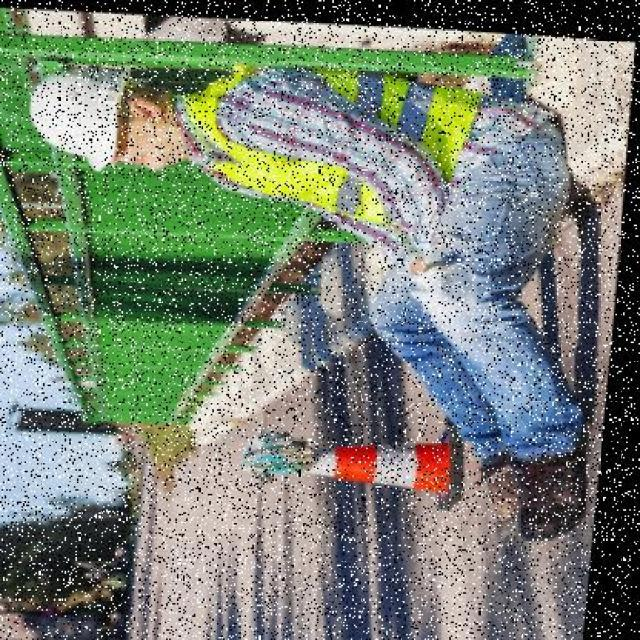helmet: (19, 53, 153, 178)
vest: (173, 55, 489, 223)
